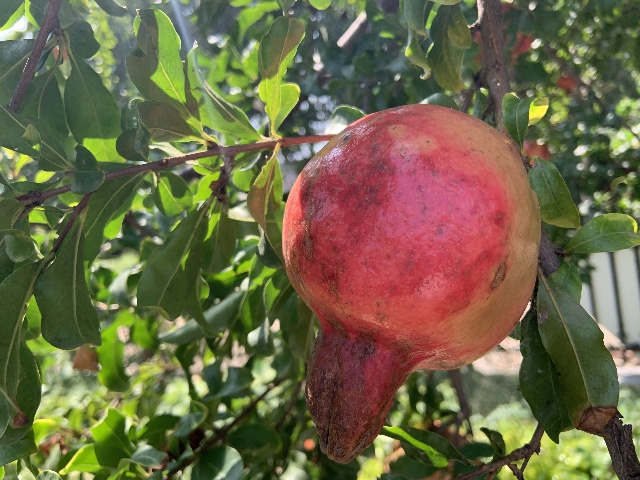ripe: (282, 103, 540, 465)
